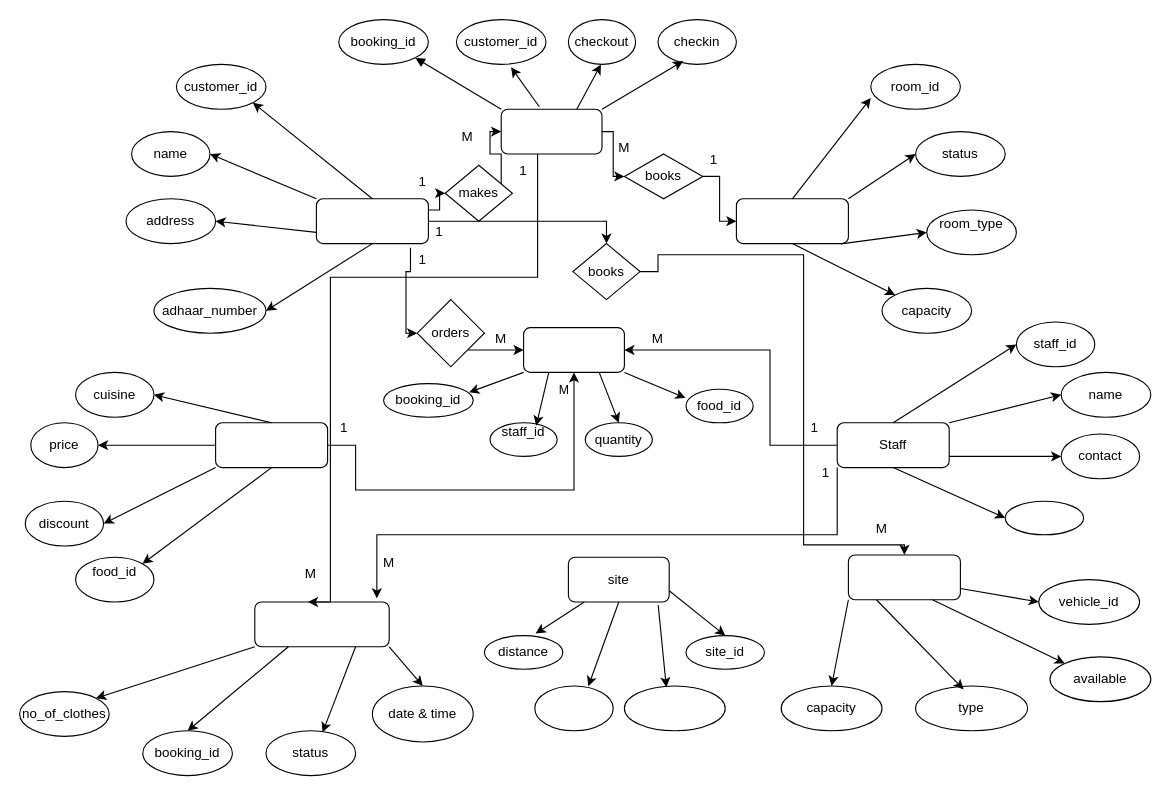
The diagram is 1170 pixels wide and 795 high, and some of its shapes have lost their labels. Each missing label, with the centre of its shape:
"Booking" belongs at point 551,131.
"Customer" belongs at point 371,221.
"food_menu" belongs at point 271,445.
"Food_Order" belongs at point 573,349.
"laundry_service" belongs at point 321,624.
"location" belongs at point 573,708.
"role" belongs at point 1044,517.
"Room" belongs at point 791,221.
"site_name" belongs at point 674,708.
"vehicle" belongs at point 903,577.
